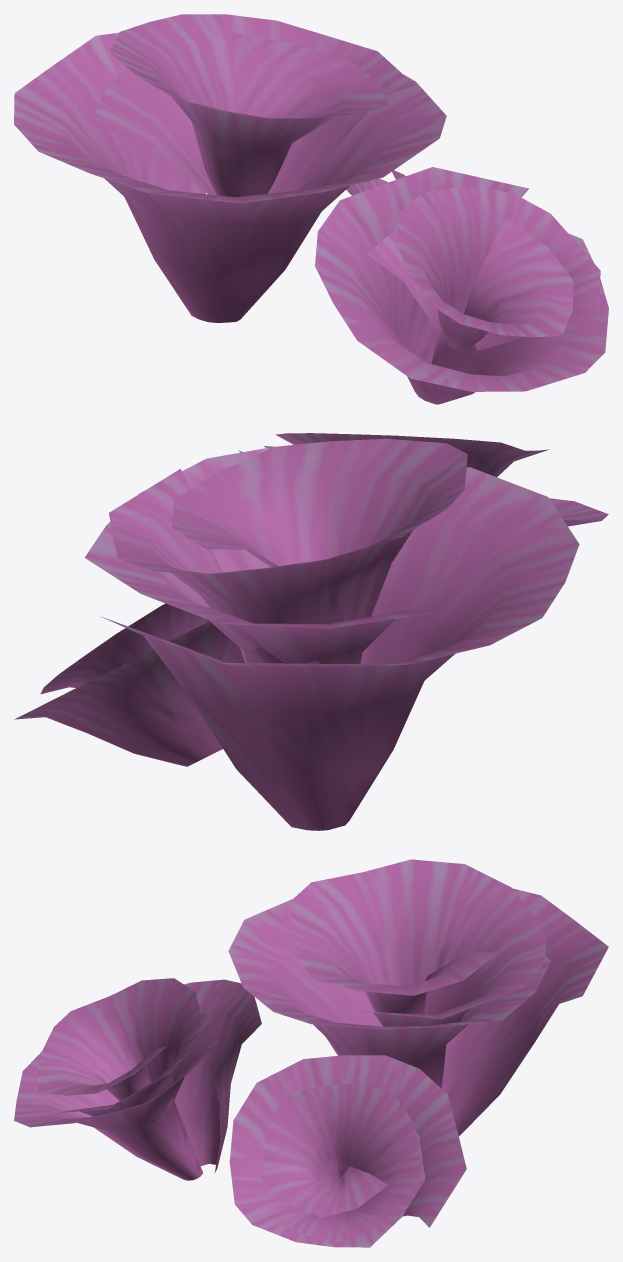
Rendered from coral18_FBX_still.fbx.
3 renders of one model, top to bottom at view 1: azimuth 30°, elevation 25°; view 2: azimuth 150°, elevation 25°; view 3: azimuth 270°, elevation 25°, orthographic. The views are drawn at different scales.
Visible parts, largest first — view 1: coral18_gameasset; view 2: coral18_gameasset; view 3: coral18_gameasset.
Boxes of the visible parts, box(x1,y1,x2,y2) form: coral18_gameasset: box(14, 14, 608, 404); coral18_gameasset: box(14, 433, 608, 830); coral18_gameasset: box(14, 859, 608, 1247).
Bounding box in the file's own units: 1.23 × 0.7741 × 1.62.
Materials: 1 (1 with a texture image).
